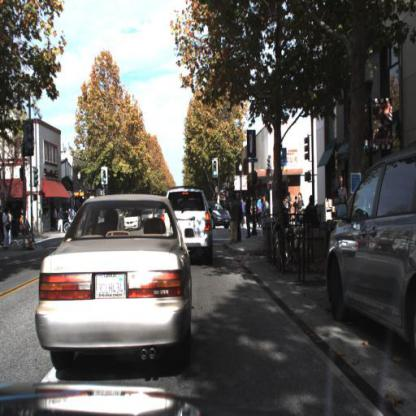car: (35, 194, 195, 368), (323, 142, 416, 361), (168, 187, 213, 263), (206, 198, 233, 234), (207, 204, 232, 230)
pedestrian: (333, 173, 351, 226), (229, 195, 241, 247), (243, 193, 255, 240), (302, 195, 318, 226), (2, 208, 13, 252), (335, 176, 349, 203), (262, 195, 271, 229), (238, 192, 244, 241), (56, 205, 66, 234), (256, 193, 264, 228), (238, 196, 247, 225), (297, 191, 306, 216), (293, 194, 301, 217), (283, 198, 290, 216)
trafficLight-Green: (212, 156, 220, 181), (100, 166, 108, 187)
